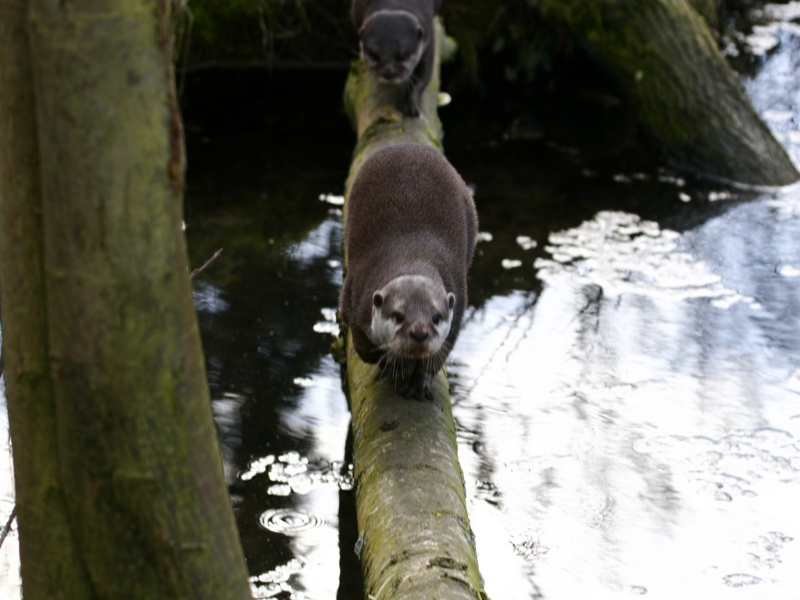minkish: (337, 144, 484, 408), (341, 1, 440, 121)
